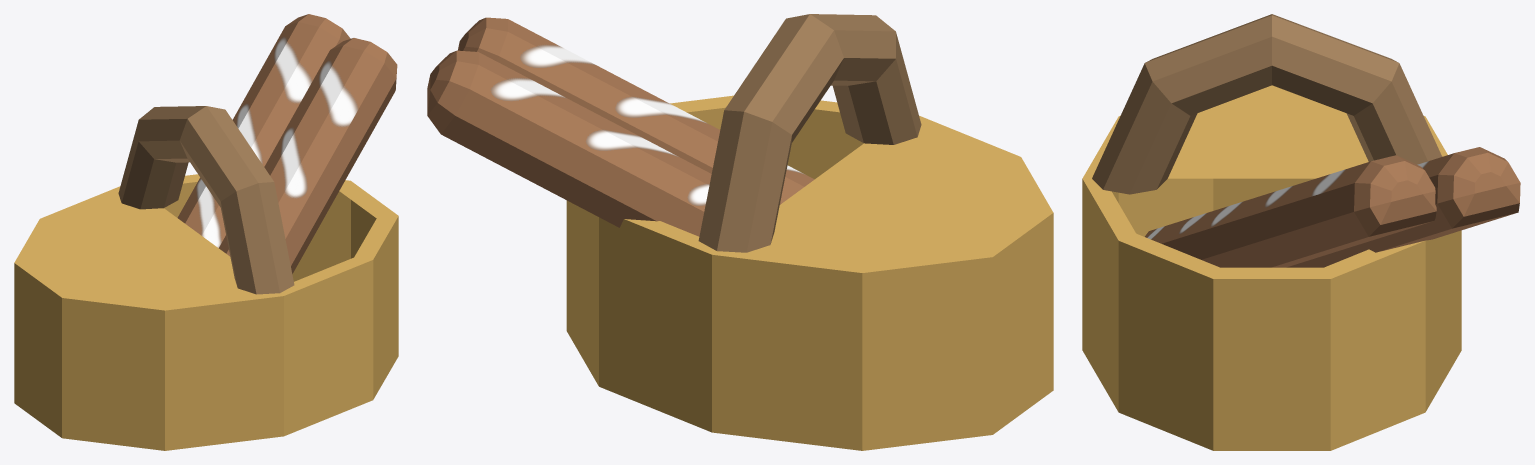
Rendered from basket.glb.
3 views of the same model, side by side, from view 1: azimuth 30°, elevation 25°; view 2: azimuth 150°, elevation 25°; view 3: azimuth 270°, elevation 25° (orthographic). The views are drawn at different scales.
Parts seen in each view (by area): view 1: Cylinder, Torus, baguette.001, baguette; view 2: Cylinder, Torus, baguette, baguette.001; view 3: Cylinder, Torus, baguette.001, baguette.
Part boxes in pixels (x1=…): Cylinder: x1=14, y1=174, x2=398, y2=450; Torus: x1=118, y1=106, x2=294, y2=294; baguette.001: x1=219, y1=38, x2=397, y2=273; baguette: x1=177, y1=14, x2=350, y2=247; Cylinder: x1=566, y1=95, x2=1053, y2=450; Torus: x1=698, y1=14, x2=921, y2=252; baguette: x1=427, y1=50, x2=711, y2=236; baguette.001: x1=457, y1=17, x2=814, y2=204; Cylinder: x1=1082, y1=85, x2=1461, y2=450; Torus: x1=1092, y1=14, x2=1442, y2=194; baguette.001: x1=1145, y1=155, x2=1436, y2=267; baguette: x1=1286, y1=147, x2=1520, y2=267.
Size of the model in its own units: 0.6006 by 0.39 by 0.462.
3 materials, 1 textured.
